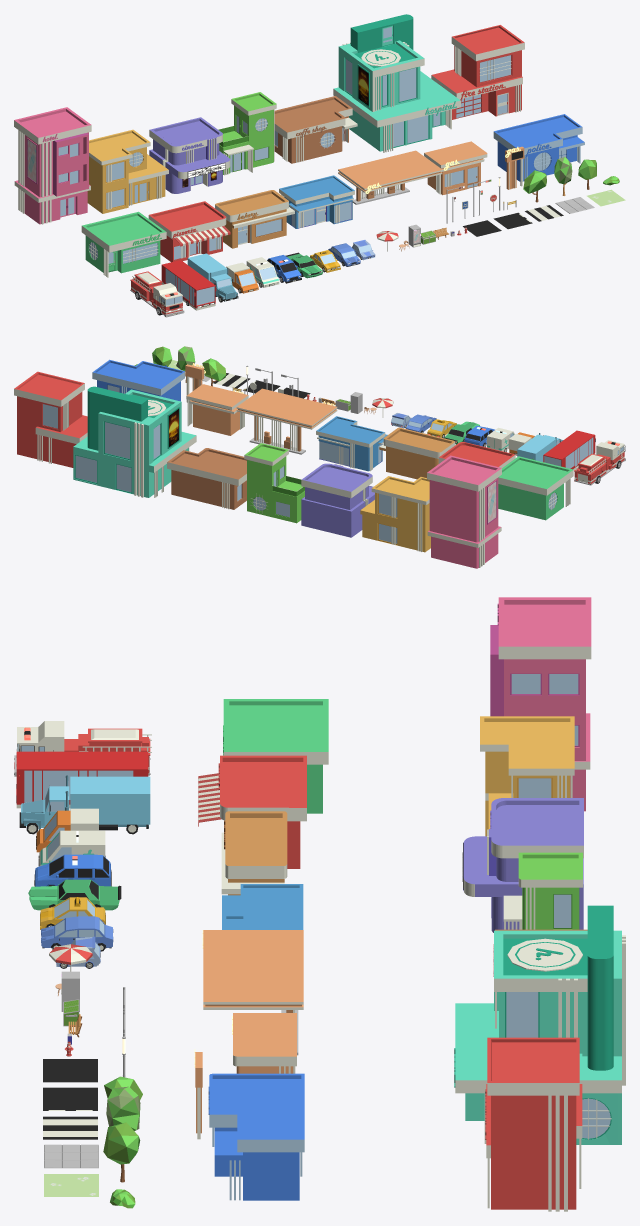
Rendered from bakery.glb.
The picture shows the model from 3 angles, top to bottom: view 1: azimuth 30°, elevation 25°; view 2: azimuth 150°, elevation 25°; view 3: azimuth 270°, elevation 25°; orthographic projection. The views are drawn at different scales.
Visible parts, largest first — view 1: hospital, hotel, fire_station, yellow_house, cinema, coffe_shop, market, police_station, green_house, pizzeria, bakery, gas_station (+14 smaller); view 2: hospital, hotel, fire_station, cinema, yellow_house, coffe_shop, market, green_house, gas_station, blue_house, police_station, bakery (+15 smaller); view 3: hospital, fire_station, hotel, police_station, cinema, gas_station, yellow_house, market, pizzeria, green_house, truck, bakery (+17 smaller).
Boxes of the visible parts, bbox=[...] form: hospital: bbox=[333, 14, 460, 152]; hotel: bbox=[14, 107, 91, 224]; fire_station: bbox=[431, 25, 524, 119]; yellow_house: bbox=[87, 129, 168, 213]; cinema: bbox=[149, 117, 230, 193]; coffe_shop: bbox=[274, 96, 357, 163]; market: bbox=[81, 211, 166, 277]; police_station: bbox=[493, 114, 584, 181]; green_house: bbox=[218, 92, 276, 175]; pizzeria: bbox=[148, 201, 230, 262]; bakery: bbox=[215, 190, 294, 248]; gas_station: bbox=[338, 150, 442, 204]; hospital: bbox=[73, 386, 196, 497]; hotel: bbox=[427, 455, 501, 568]; fire_station: bbox=[14, 371, 87, 467]; cinema: bbox=[301, 463, 374, 537]; yellow_house: bbox=[360, 476, 430, 552]; coffe_shop: bbox=[167, 448, 247, 509]; market: bbox=[498, 456, 573, 520]; green_house: bbox=[244, 443, 304, 523]; gas_station: bbox=[236, 388, 337, 454]; blue_house: bbox=[316, 416, 387, 471]; police_station: bbox=[92, 359, 184, 401]; bakery: bbox=[379, 427, 455, 479]; hospital: bbox=[454, 905, 625, 1144]; fire_station: bbox=[485, 1037, 582, 1211]; hotel: bbox=[490, 597, 591, 811]; police_station: bbox=[208, 1073, 304, 1200]; cinema: bbox=[462, 798, 583, 932]; gas_station: bbox=[202, 930, 303, 1055]; yellow_house: bbox=[480, 716, 574, 836]; market: bbox=[223, 699, 328, 813]; pizzeria: bbox=[198, 755, 306, 868]; green_house: bbox=[503, 852, 582, 929]; truck: bbox=[19, 775, 150, 834]; bakery: bbox=[221, 811, 287, 895].
Size of the model in its own units: 57.6 by 10.56 by 33.23.
Materials: 56 (1 with a texture image).
